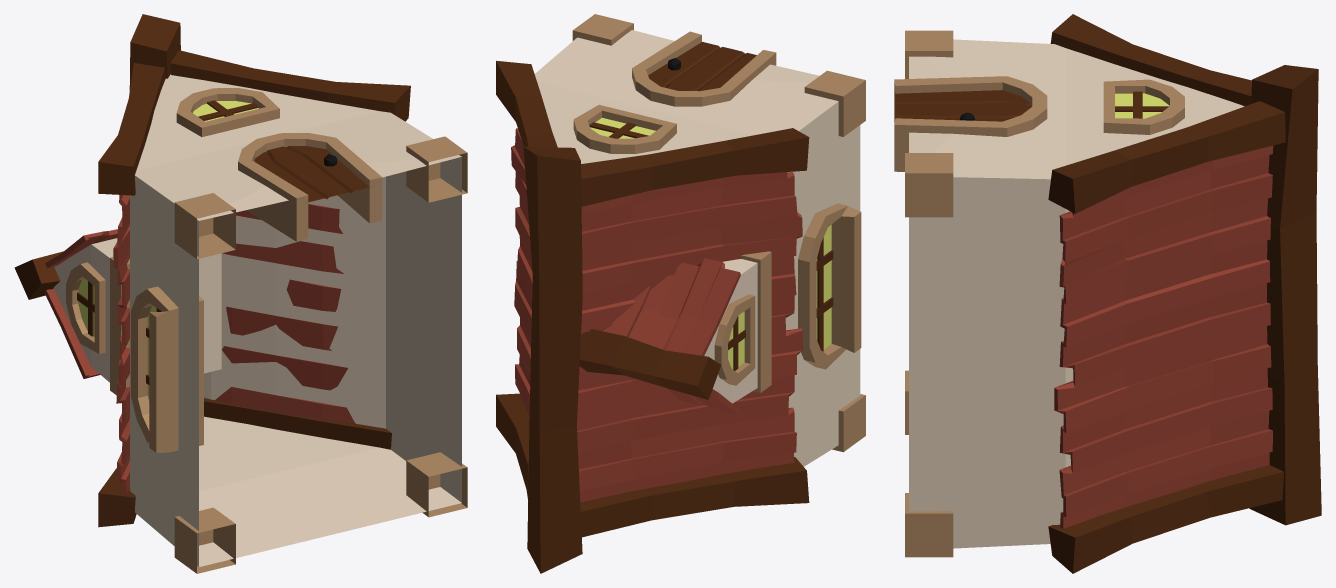
File: House.fbx
The picture shows the model from 3 angles, left to right: view 1: azimuth 30°, elevation 25°; view 2: azimuth 150°, elevation 25°; view 3: azimuth 270°, elevation 25°; orthographic projection. The views are drawn at different scales.
Visible parts, largest first — view 1: House; view 2: House; view 3: House.
Boxes of the visible parts, x1,y1,x2,y2 form: House: (14, 14, 467, 573); House: (496, 14, 865, 573); House: (894, 14, 1321, 573).
Size of the model in its own units: 68.14 by 86.49 by 74.61.
